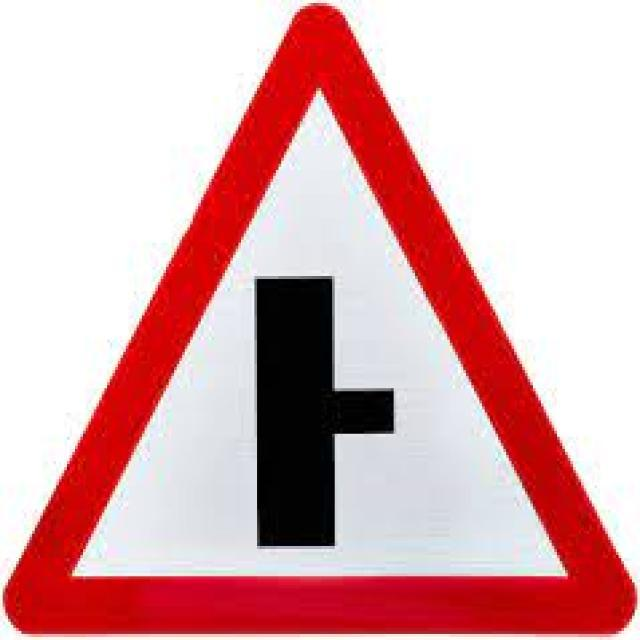side road right: (10, 15, 624, 626)
